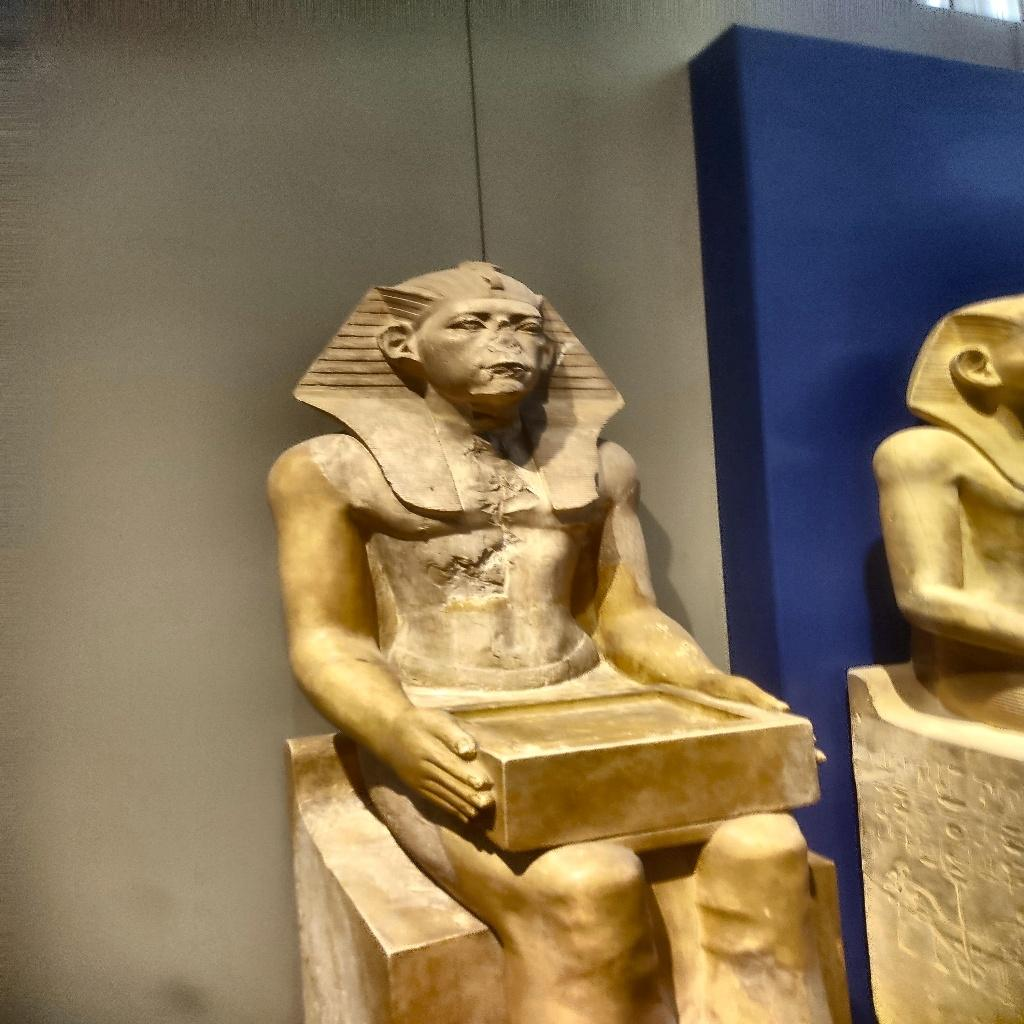Amenhotep III with Plate: (162, 218, 834, 1024)
